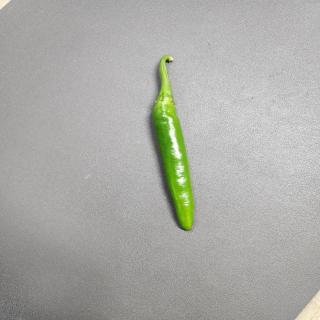Cabai Hijau: (152, 55, 196, 232)
